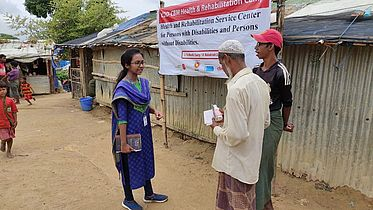person: (108, 50, 170, 208), (208, 42, 261, 209), (246, 26, 293, 82), (1, 81, 21, 155), (17, 75, 38, 103), (1, 51, 9, 78)
